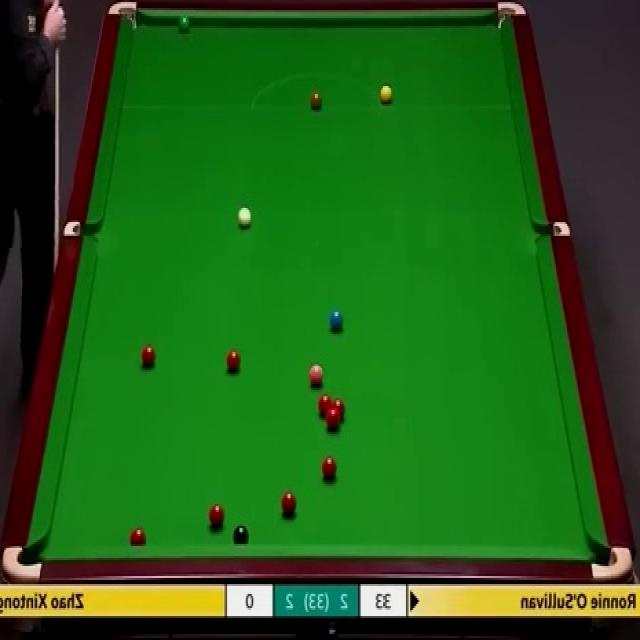black-ball: (233, 523, 250, 543)
blue-ball: (327, 309, 343, 332)
brown-ball: (309, 88, 323, 111)
green-ball: (177, 14, 190, 30)
pink-ball: (308, 362, 324, 389)
red-ball: (281, 489, 297, 517), (208, 502, 225, 528), (321, 455, 336, 480), (129, 526, 145, 546), (227, 348, 240, 372), (141, 344, 155, 366), (326, 408, 339, 430), (318, 393, 331, 415), (332, 399, 344, 412)
white-ball: (236, 204, 253, 228)
yellow-ball: (380, 83, 393, 103)
